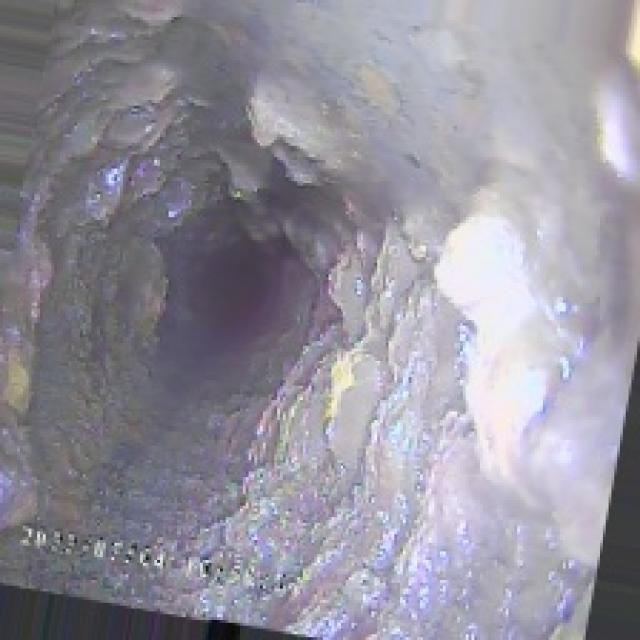encrustation: (254, 91, 563, 560)
